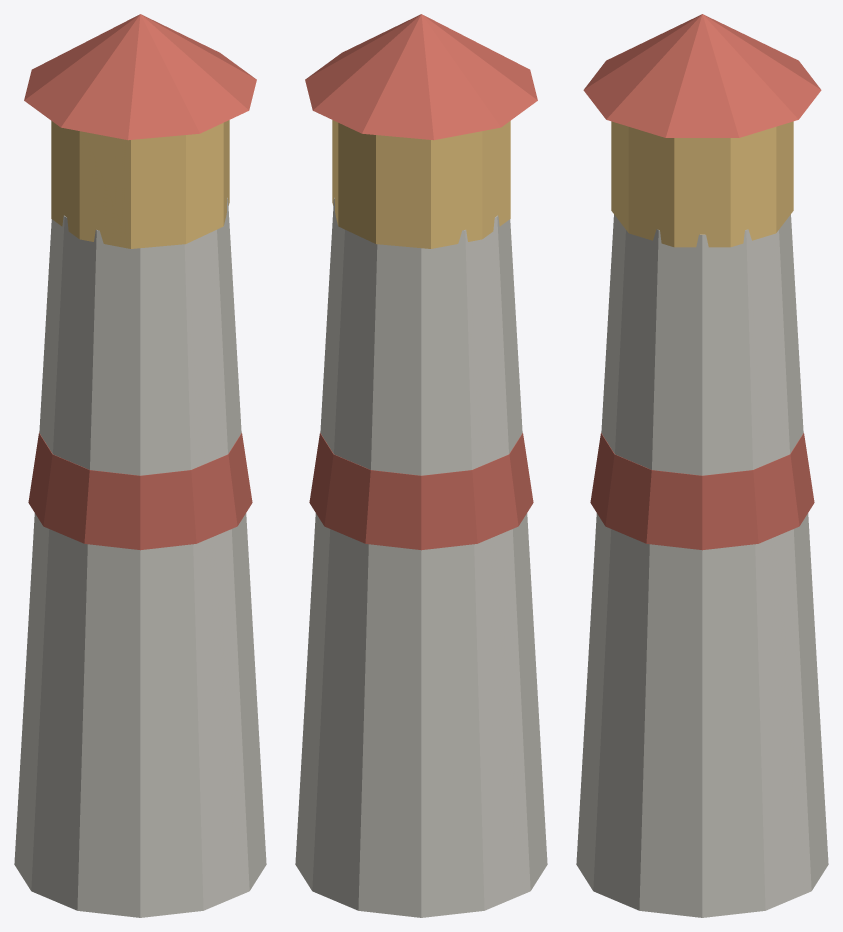
The model's file is lighthouse.glb.
3 renders of one model, left to right at view 1: azimuth 30°, elevation 25°; view 2: azimuth 150°, elevation 25°; view 3: azimuth 270°, elevation 25°, orthographic.
Visible parts, largest first — view 1: tower, roof, lantern, red_band; view 2: tower, roof, lantern, red_band; view 3: tower, roof, lantern, red_band.
Boxes of the visible parts, left/top/right/bottom form: tower: left=14, top=198, right=266, bottom=917; roof: left=24, top=14, right=256, bottom=140; lantern: left=51, top=120, right=229, bottom=248; red_band: left=28, top=433, right=252, bottom=550; tower: left=295, top=198, right=547, bottom=917; roof: left=305, top=14, right=537, bottom=140; lantern: left=332, top=120, right=510, bottom=248; red_band: left=309, top=433, right=533, bottom=550; tower: left=576, top=214, right=828, bottom=917; roof: left=583, top=14, right=821, bottom=137; lantern: left=611, top=121, right=793, bottom=247; red_band: left=590, top=433, right=814, bottom=550.
Size of the model in its own units: 0.72 by 2.68 by 0.72.
